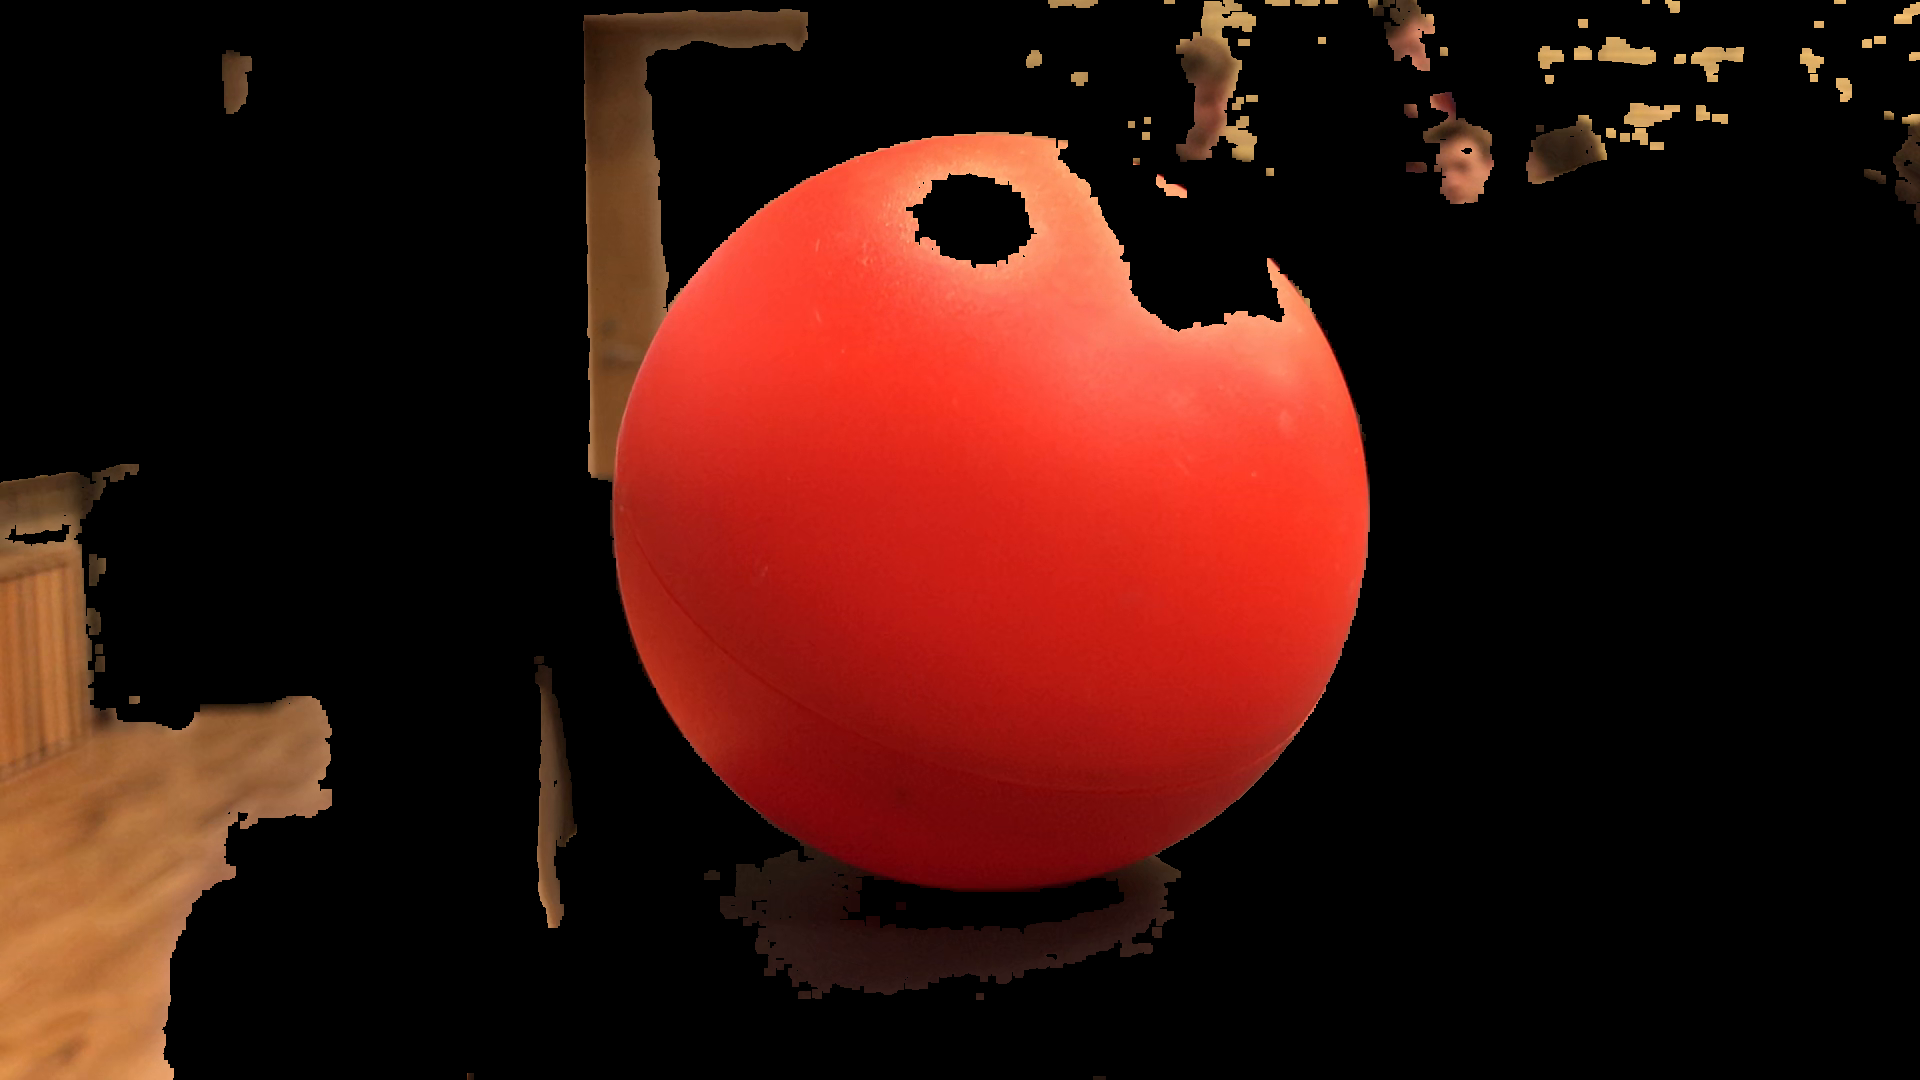Ball: (607, 131, 1377, 891)
